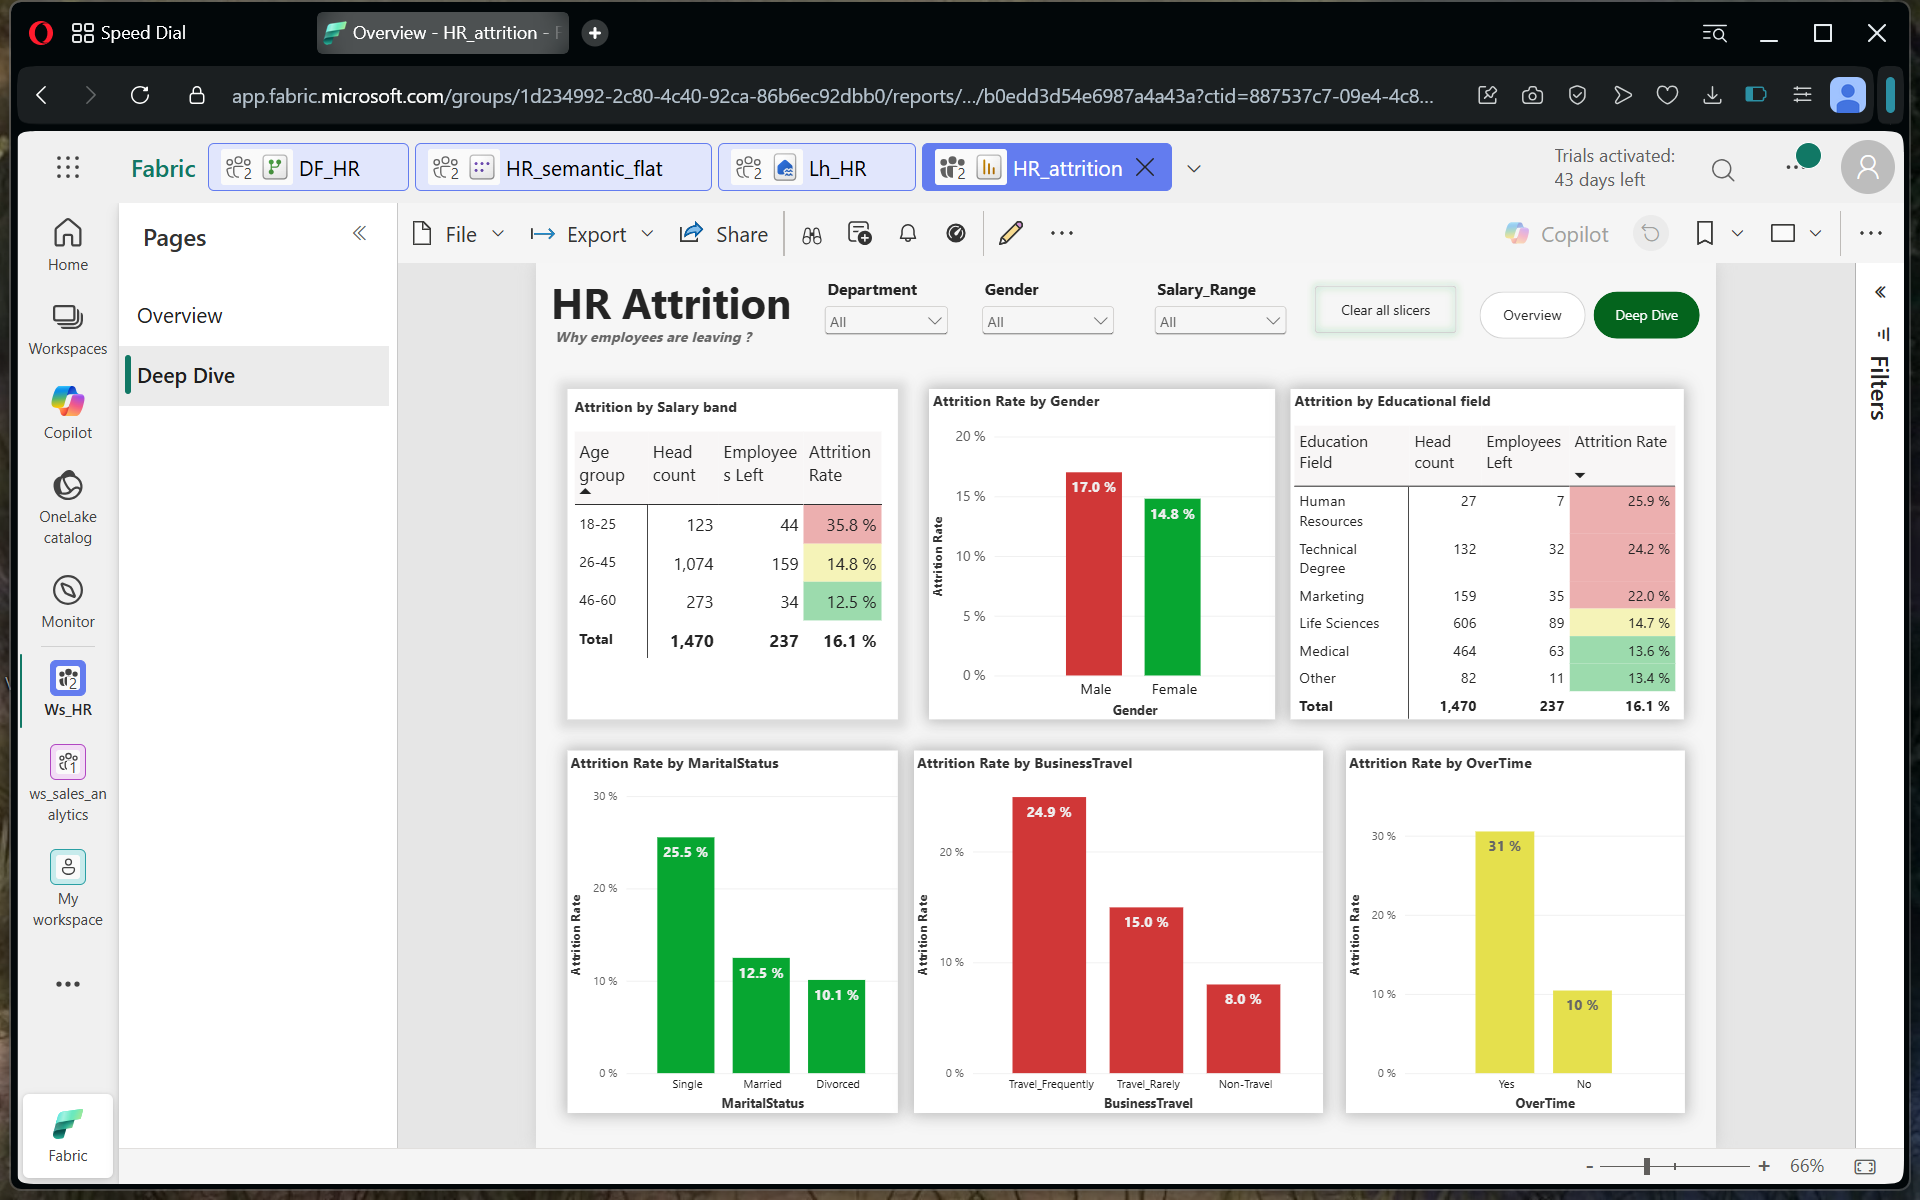

What the dashboard file says about the page in this screenshot:
{"tool":"powerbi","page":{"name":"Deep Dive","canvas":[1200,900],"ordinal":1},"visuals":[{"type":"textbox","box":[16,0,272,80],"z":0},{"type":"slicer","fields":{"Values":["HR_employees.Gender"]},"box":[448,16,144,80],"z":0,"group":"g1"},{"type":"slicer","fields":{"Values":["HR_employees.Department"]},"box":[288,16,135.8,64],"z":1000,"group":"g1"},{"type":"textbox","box":[16,64,208,32],"z":1000},{"type":"slicer","fields":{"Values":["HR_employees.Income_Range"]},"box":[624,16,144,64],"z":2000,"group":"g1"},{"type":"actionButton","box":[784,16,160,64],"z":2000},{"type":"pageNavigator","box":[960,29,224,48],"z":3000},{"type":"group","id":"g1","title":"Group 1","box":[288,16,480,80],"z":4000},{"type":"clusteredColumnChart","fields":{"Category":["HR_employees.Gender"],"Y":["HR_employees.Attrition Rate"]},"box":[400,128,352,336],"z":5000},{"type":"clusteredColumnChart","fields":{"Category":["HR_employees.MaritalStatus"],"Y":["HR_employees.Attrition Rate"]},"box":[32,496,336,368],"z":6000},{"type":"clusteredColumnChart","fields":{"Category":["HR_employees.BusinessTravel"],"Y":["HR_employees.Attrition Rate"]},"box":[768,496,400,368],"z":7000},{"type":"clusteredColumnChart","fields":{"Category":["HR_employees.OverTime"],"Y":["HR_employees.Attrition Rate"]},"box":[384,496,368,368],"z":8000},{"type":"pivotTable","title":"Attrition by Salary band ","fields":{"Rows":["HR_employees.Age_group"],"Values":["HR_employees.HEADCOUNT","HR_employees.EMPLOYEES LEFT","HR_employees.Attrition Rate"]},"box":[32,128,336,336],"z":9000},{"type":"pivotTable","title":"Attrition by Educational field","fields":{"Rows":["HR_employees.EducationField"],"Values":["HR_employees.HEADCOUNT","HR_employees.EMPLOYEES LEFT","HR_employees.Attrition Rate"]},"box":[768,128,400,336],"z":10000}]}

Visuals, with their boxes on the page's 1200x900 design canvas (x1, y1, x2, y2). These are canvas units, not pixel positions in the 1920x1200 screenshot, which may show the page scaled, cropped or inside an application window:
textbox: BBox(16, 0, 288, 80)
slicer - HR_employees.Gender: BBox(448, 16, 592, 96)
slicer - HR_employees.Department: BBox(288, 16, 424, 80)
textbox: BBox(16, 64, 224, 96)
slicer - HR_employees.Income_Range: BBox(624, 16, 768, 80)
actionButton: BBox(784, 16, 944, 80)
pageNavigator: BBox(960, 29, 1184, 77)
"Group 1" group: BBox(288, 16, 768, 96)
clusteredColumnChart - HR_employees.Gender x HR_employees.Attrition Rate: BBox(400, 128, 752, 464)
clusteredColumnChart - HR_employees.MaritalStatus x HR_employees.Attrition Rate: BBox(32, 496, 368, 864)
clusteredColumnChart - HR_employees.BusinessTravel x HR_employees.Attrition Rate: BBox(768, 496, 1168, 864)
clusteredColumnChart - HR_employees.OverTime x HR_employees.Attrition Rate: BBox(384, 496, 752, 864)
"Attrition by Salary band " pivotTable: BBox(32, 128, 368, 464)
"Attrition by Educational field" pivotTable: BBox(768, 128, 1168, 464)
